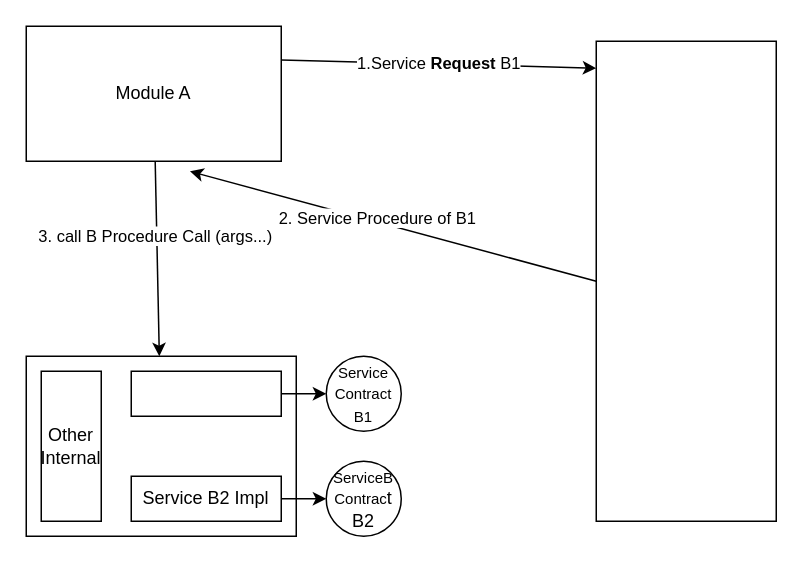
Image size: 803x563. Some labels were removed from this diagram. Each missing label, with the box of its shape:
Module B: (25, 355, 296, 536)
Service B1 Impl: (130, 370, 281, 416)
SPC: (595, 40, 776, 521)
